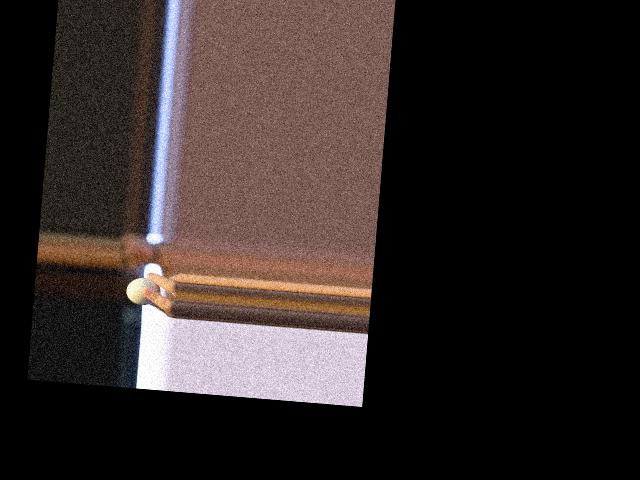egg: (125, 275, 162, 305)
